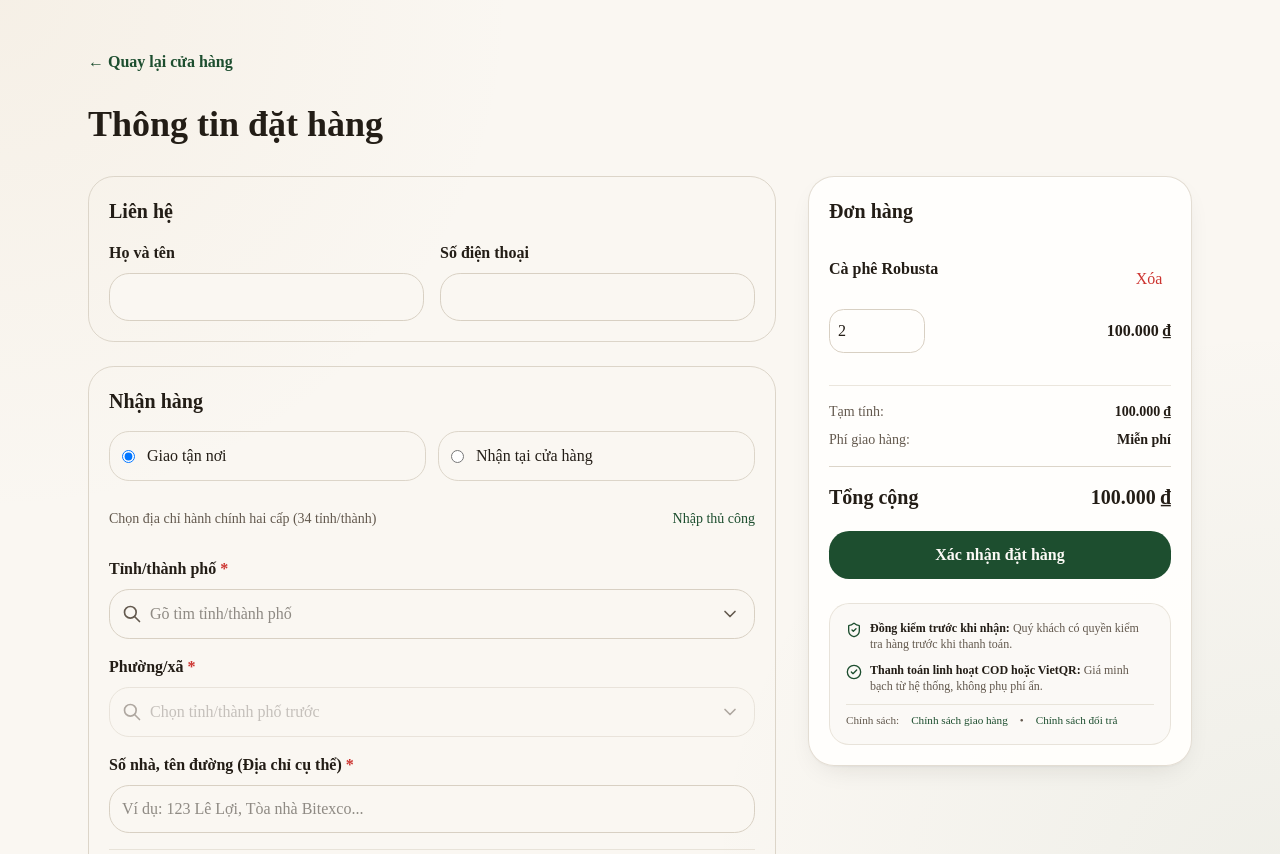
Test: CheckoutForm - Structured Address & Experience › chọn nhận tại cửa hàng khi chưa cấu hình địa chỉ hiển thị thông báo trung thực
The width and height of the screenshot is (1280, 854).
Click the radio button labelled "Nhận tại cửa hàng".
click(458, 456)  # box [451,450,464,462]
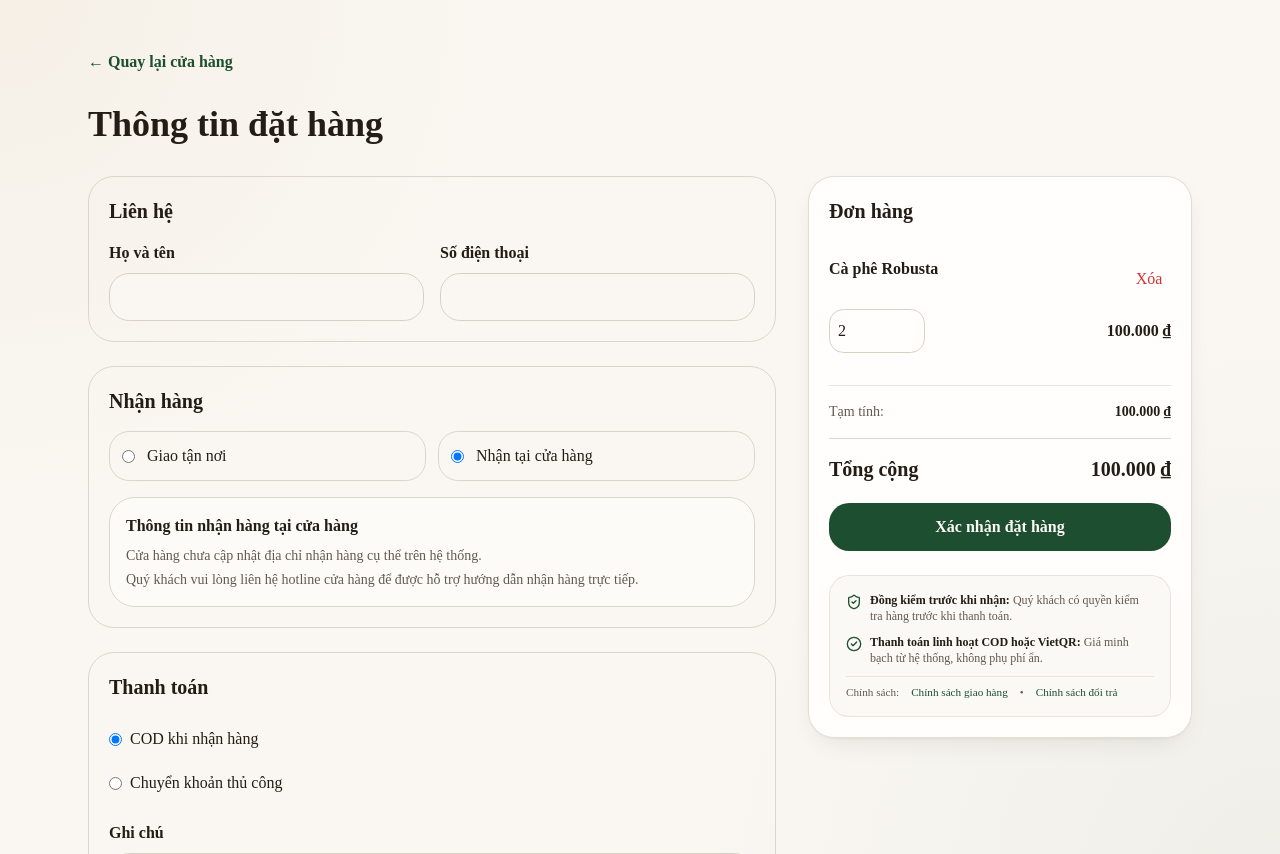
Result: the element with test id "pickup-store-info" is shown at [109,497,755,607]
Result: the element with test id "pickup-store-info" shows "chưa cập nhật địa chỉ" at [126,548,482,563]
